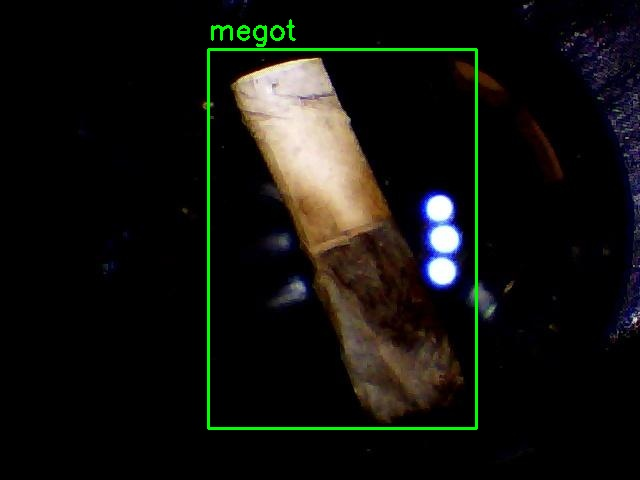megot: (208, 49, 476, 428)
